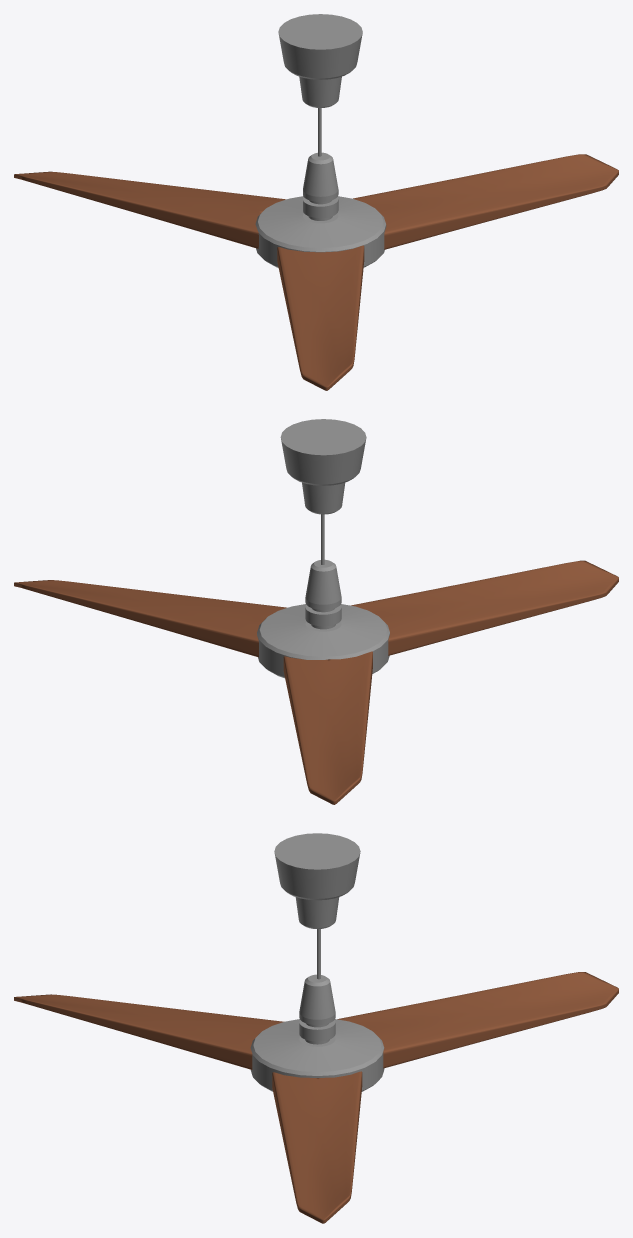
The model's file is Fan1.FBX.
3 renders of one model, top to bottom at view 1: azimuth 30°, elevation 25°; view 2: azimuth 150°, elevation 25°; view 3: azimuth 270°, elevation 25°, orthographic. The views are drawn at different scales.
Parts seen in each view (by area): view 1: Line003, Line005, Line002, Line004, Line001; view 2: Line005, Line004, Line002, Line003, Line001; view 3: Line004, Line003, Line002, Line005, Line001.
Boxes of the visible parts, x1=… form: Line003: x1=353, y1=154, x2=618, y2=249; Line005: x1=277, y1=245, x2=364, y2=390; Line002: x1=255, y1=152, x2=386, y2=267; Line004: x1=14, y1=171, x2=285, y2=248; Line001: x1=278, y1=14, x2=362, y2=107; Line005: x1=351, y1=560, x2=618, y2=655; Line004: x1=283, y1=651, x2=372, y2=804; Line002: x1=257, y1=559, x2=389, y2=678; Line003: x1=14, y1=580, x2=286, y2=657; Line001: x1=280, y1=419, x2=366, y2=514; Line004: x1=337, y1=972, x2=618, y2=1068; Line003: x1=272, y1=1071, x2=362, y2=1223; Line002: x1=250, y1=974, x2=384, y2=1091; Line005: x1=14, y1=994, x2=284, y2=1069; Line001: x1=274, y1=833, x2=360, y2=928.
Bounding box in the file's own units: 912 × 416 × 999.
